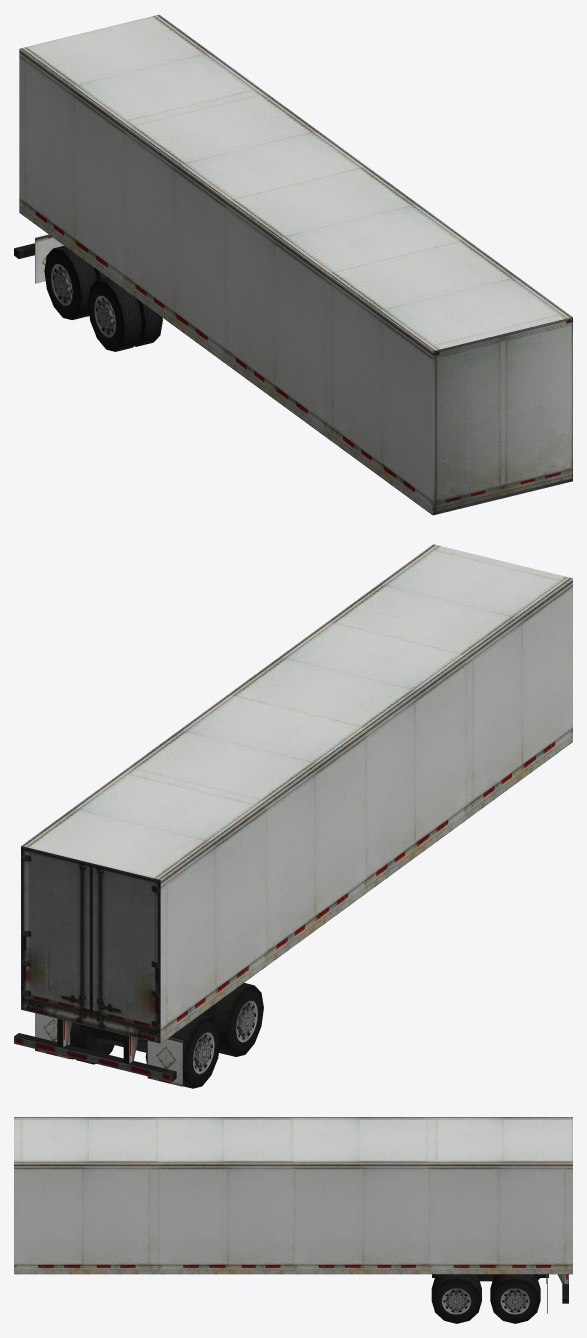
The model's file is Trailer_1.FBX.
The picture shows the model from 3 angles, top to bottom: view 1: azimuth 30°, elevation 25°; view 2: azimuth 150°, elevation 25°; view 3: azimuth 270°, elevation 25°; orthographic projection. The views are drawn at different scales.
Parts seen in each view (by area): view 1: Trailer 1, Wheel_B2, Wheel_B4; view 2: Trailer 1, Wheel_B2, Wheel_B4, Wheel_B3; view 3: Trailer 1, Wheel_B3, Wheel_B1.
Part boxes in pixels (x1,y1,x2,y2): Trailer 1: [14, 14, 572, 515]; Wheel_B2: [87, 277, 162, 351]; Wheel_B4: [44, 246, 107, 319]; Trailer 1: [14, 544, 572, 1086]; Wheel_B2: [201, 983, 263, 1056]; Wheel_B4: [145, 1014, 220, 1088]; Wheel_B3: [70, 1022, 114, 1064]; Trailer 1: [14, 1117, 572, 1313]; Wheel_B3: [490, 1274, 540, 1323]; Wheel_B1: [431, 1274, 481, 1323].
Bounding box in the file's own units: 104 × 150 × 473.
1 material, 1 textured.
